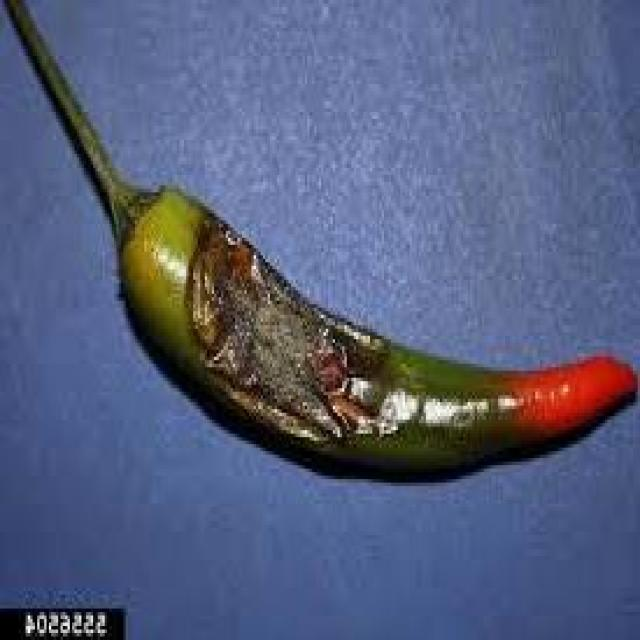Moko: (178, 171, 590, 502)
